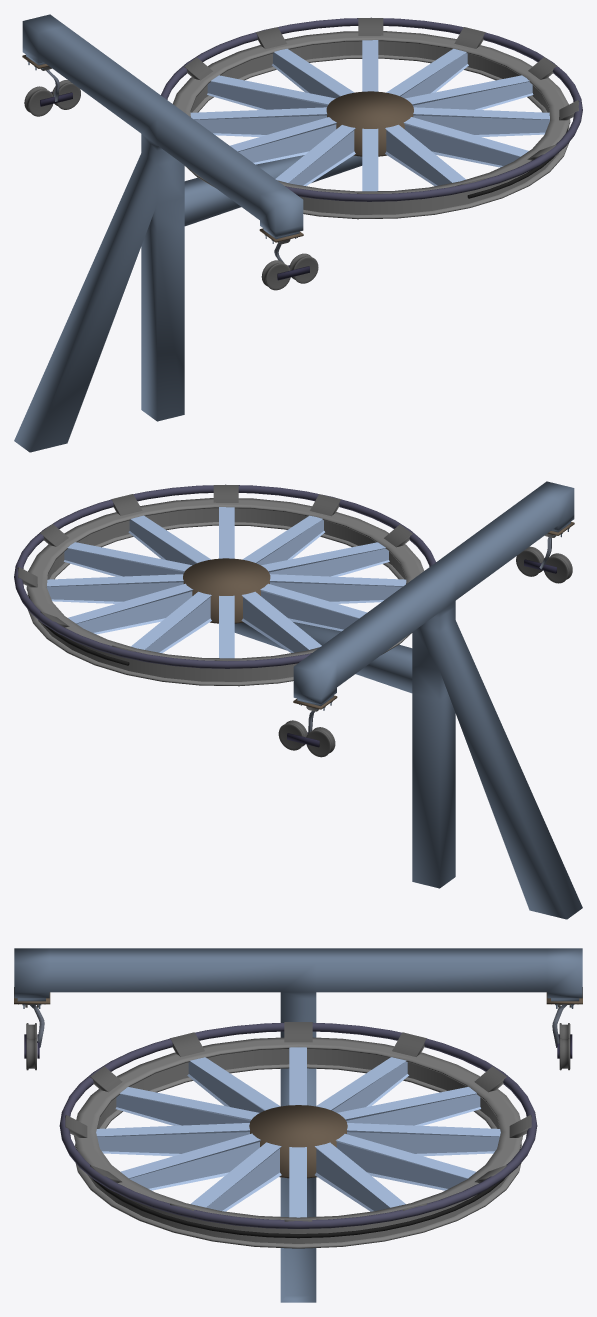
Rendered from SkiLiftTopPole.fbx.
The picture shows the model from 3 angles, top to bottom: view 1: azimuth 30°, elevation 25°; view 2: azimuth 150°, elevation 25°; view 3: azimuth 270°, elevation 25°; orthographic projection. The views are drawn at different scales.
Parts seen in each view (by area): view 1: TopSkiLiftModel; view 2: TopSkiLiftModel; view 3: TopSkiLiftModel.
Part boxes in pixels (left/top/right/bottom): TopSkiLiftModel: left=14, top=14, right=582, bottom=452; TopSkiLiftModel: left=14, top=481, right=582, bottom=919; TopSkiLiftModel: left=14, top=948, right=582, bottom=1302.
Size of the model in its own units: 253 by 307 by 166.
